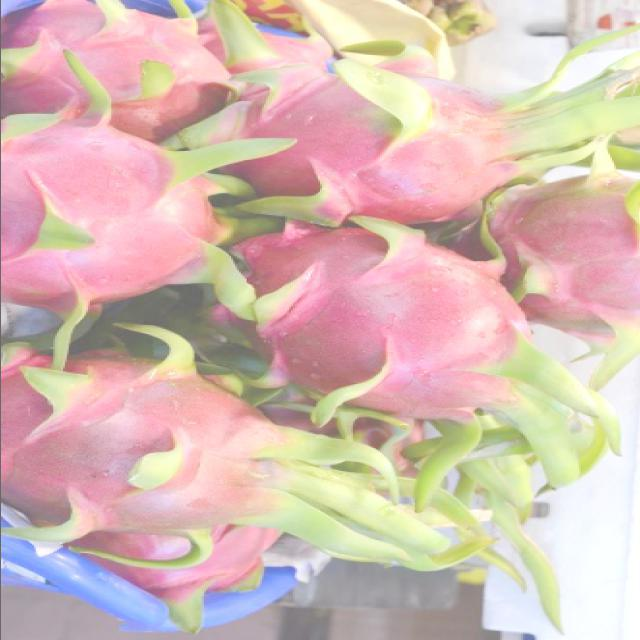trang: (1, 352, 448, 572), (224, 235, 605, 416), (222, 50, 536, 228), (1, 105, 231, 317), (2, 0, 240, 140), (456, 169, 639, 343)
